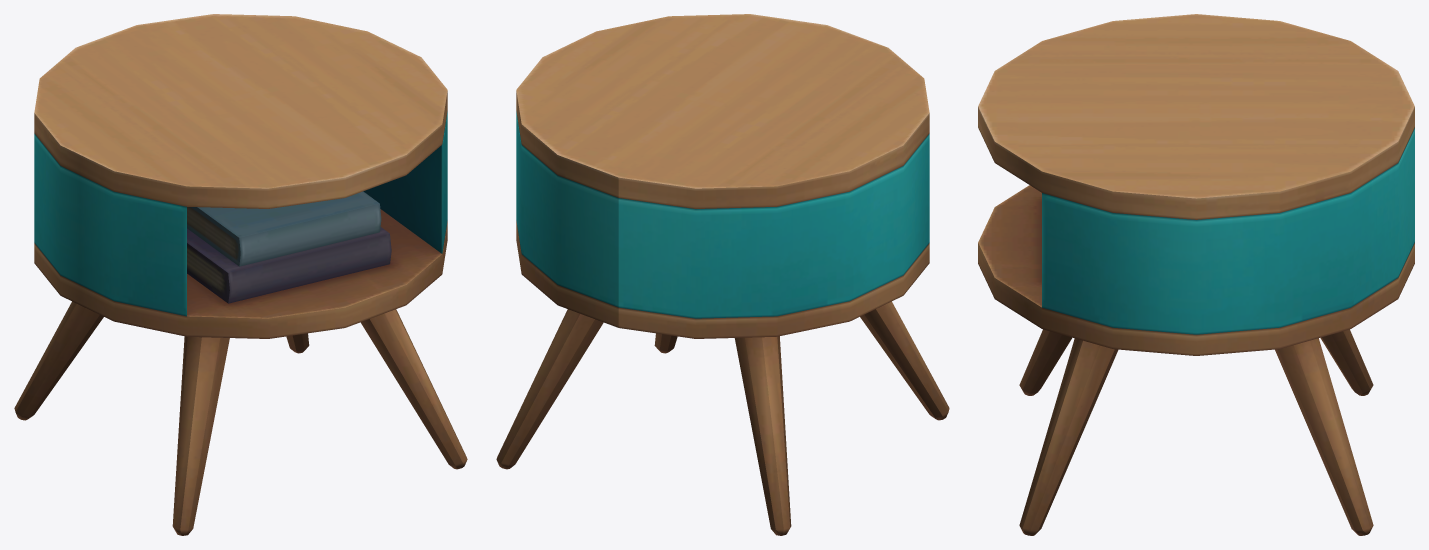
File: NotATableEnd.fbx
3 renders of one model, left to right at view 1: azimuth 30°, elevation 25°; view 2: azimuth 150°, elevation 25°; view 3: azimuth 270°, elevation 25°, orthographic. The views are drawn at different scales.
Parts seen in each view (by area): view 1: TinyLiving_NotATableEnd; view 2: TinyLiving_NotATableEnd; view 3: TinyLiving_NotATableEnd.
Part boxes in pixels (box(x1,y1,x2,y2)): TinyLiving_NotATableEnd: box(14, 14, 467, 535); TinyLiving_NotATableEnd: box(496, 14, 949, 535); TinyLiving_NotATableEnd: box(978, 14, 1414, 535).
Bounding box in the file's own units: 63.92 × 57.91 × 63.92.
